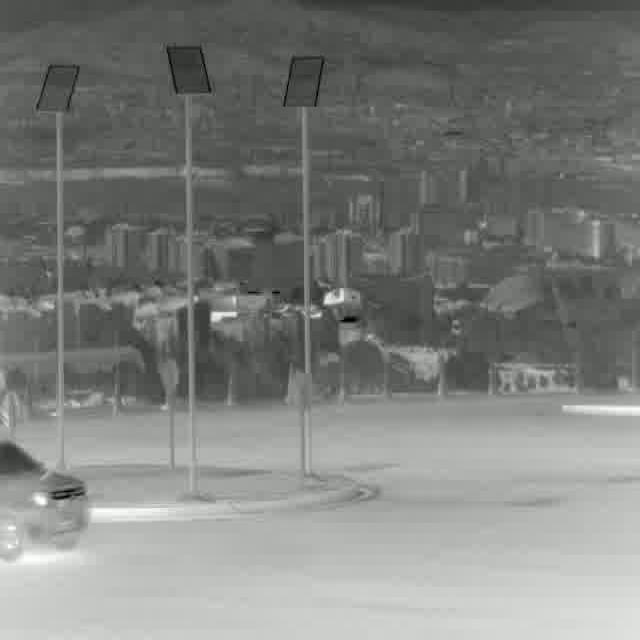Car: (0, 441, 88, 559)
